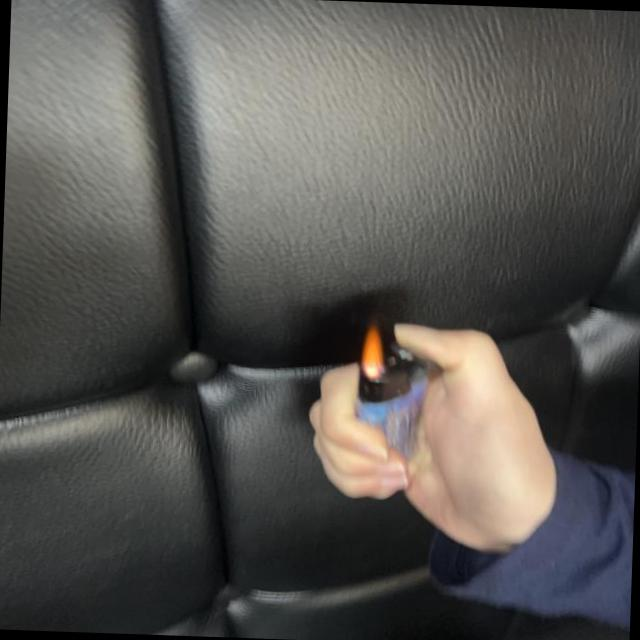Fire: (358, 321, 388, 382)
